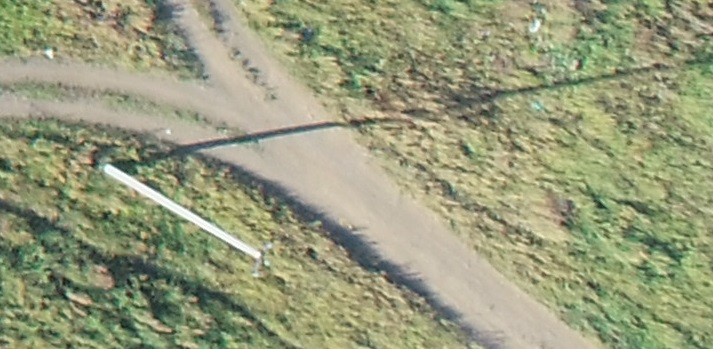opora: (100, 131, 274, 279)
